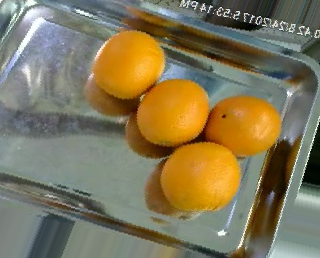Orange: (160, 140, 242, 213), (92, 28, 166, 99), (205, 93, 282, 157), (137, 78, 209, 146)
